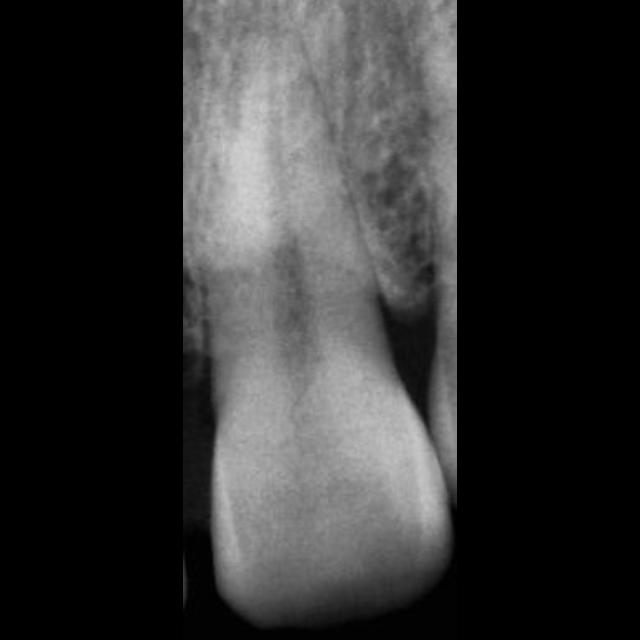tooth: (196, 30, 452, 620)
